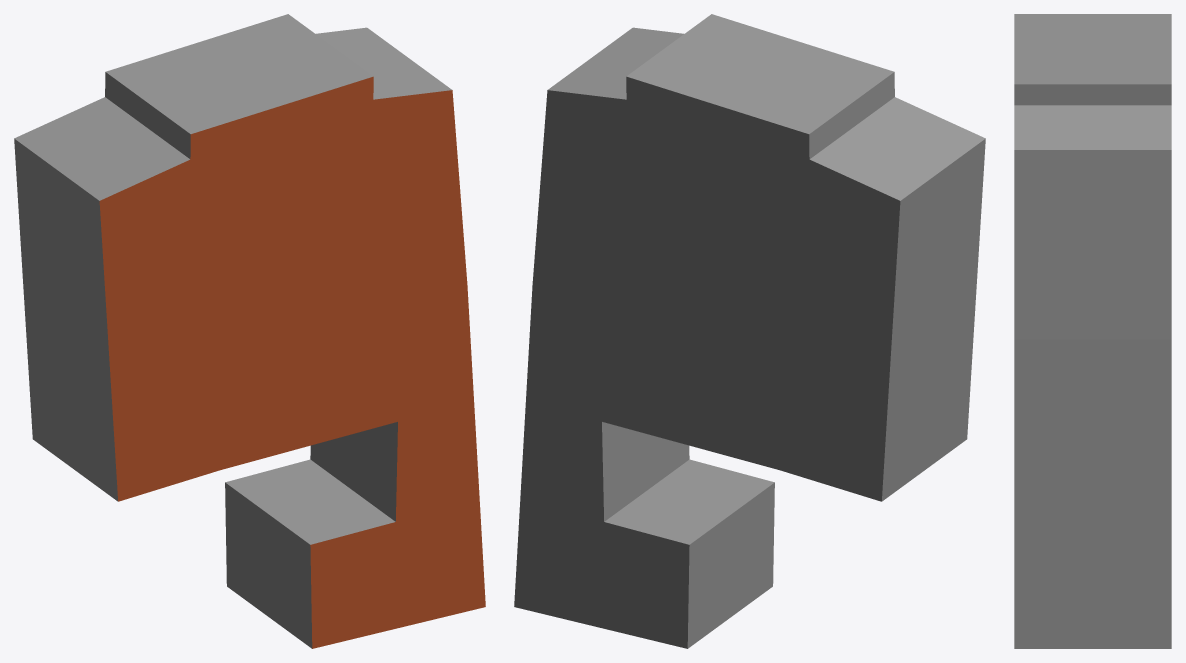
The model's file is construction_3293_assumed_A_Casa_h6m.obj.
3 renders of one model, left to right at view 1: azimuth 30°, elevation 25°; view 2: azimuth 150°, elevation 25°; view 3: azimuth 270°, elevation 25°, orthographic. The views are drawn at different scales.
Parts seen in each view (by area): view 1: construction_3293_assumed_A_Casa; view 2: construction_3293_assumed_A_Casa; view 3: construction_3293_assumed_A_Casa.
Part boxes in pixels (x1,y1,x2,y2): construction_3293_assumed_A_Casa: (14, 14, 485, 648); construction_3293_assumed_A_Casa: (514, 14, 985, 648); construction_3293_assumed_A_Casa: (1014, 14, 1171, 648).
Bounding box in the file's own units: 15.67 × 21.62 × 6.
